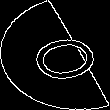O_E: (10, 25, 100, 85)
